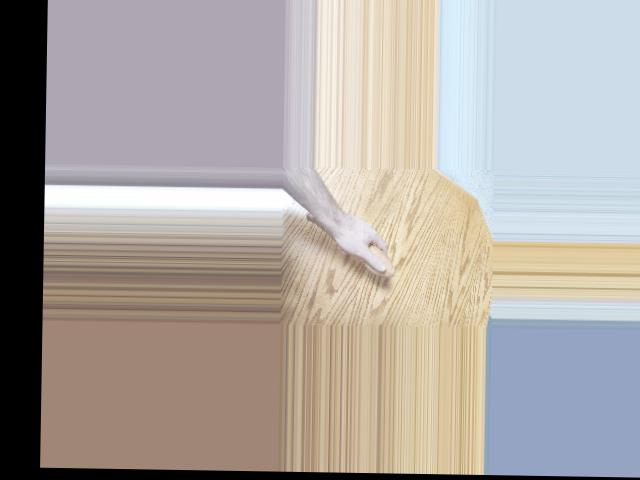sweet_potato: (301, 205, 397, 278)
